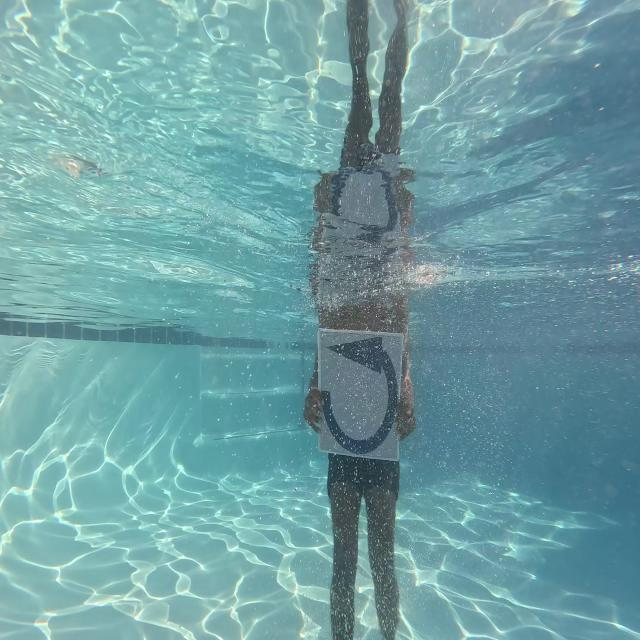blue_side: (312, 323, 406, 468)
